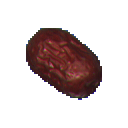gd: (12, 13, 123, 112)
